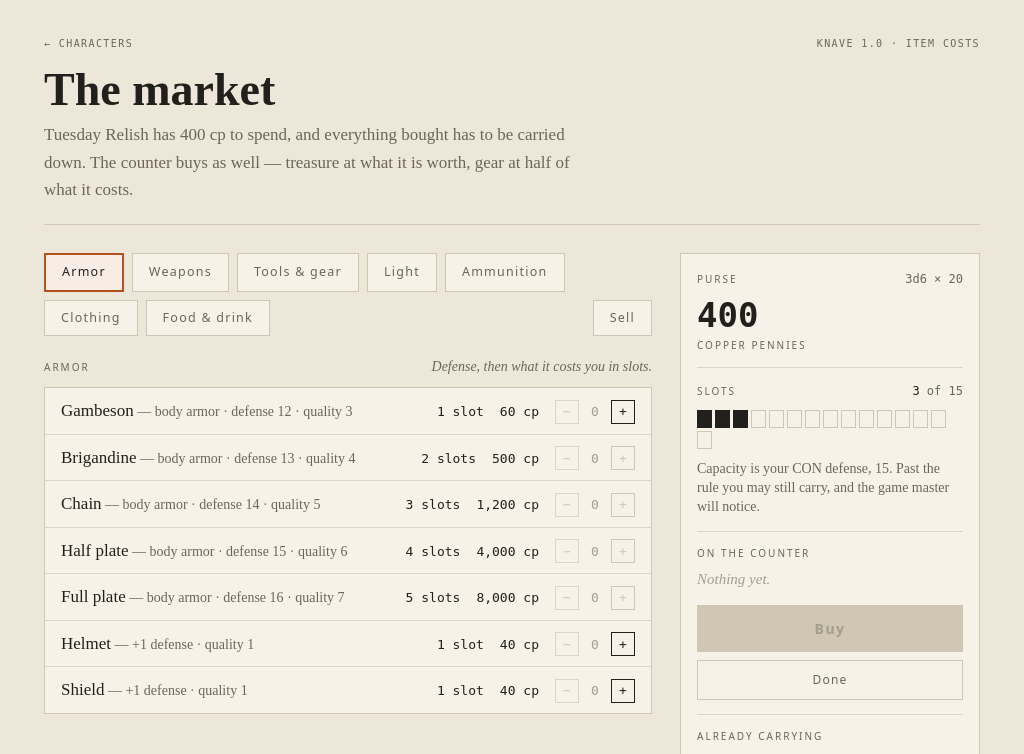
Test case: the shop › gives it back when it comes off the counter
The width and height of the screenshot is (1024, 754).
Click the button "+" in the row of "60 cp": [623, 412] box left=611, top=400, right=635, bottom=424
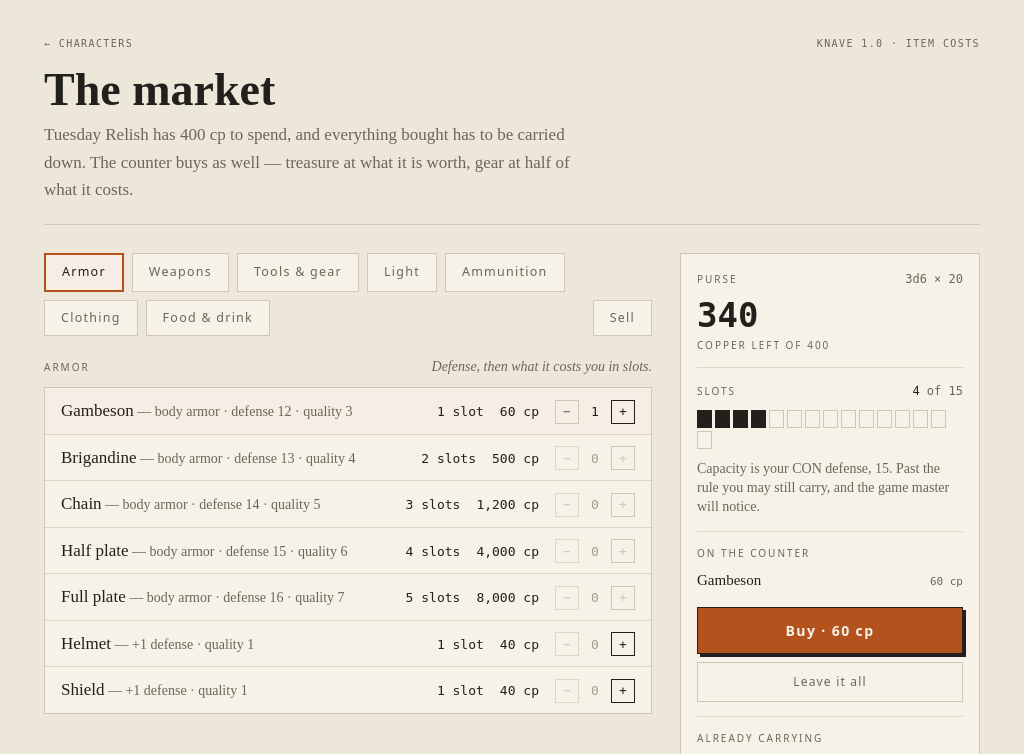
Click the button "−" in the row of "body armor · defense 12 · quality 3": [567, 412] box left=555, top=400, right=579, bottom=424
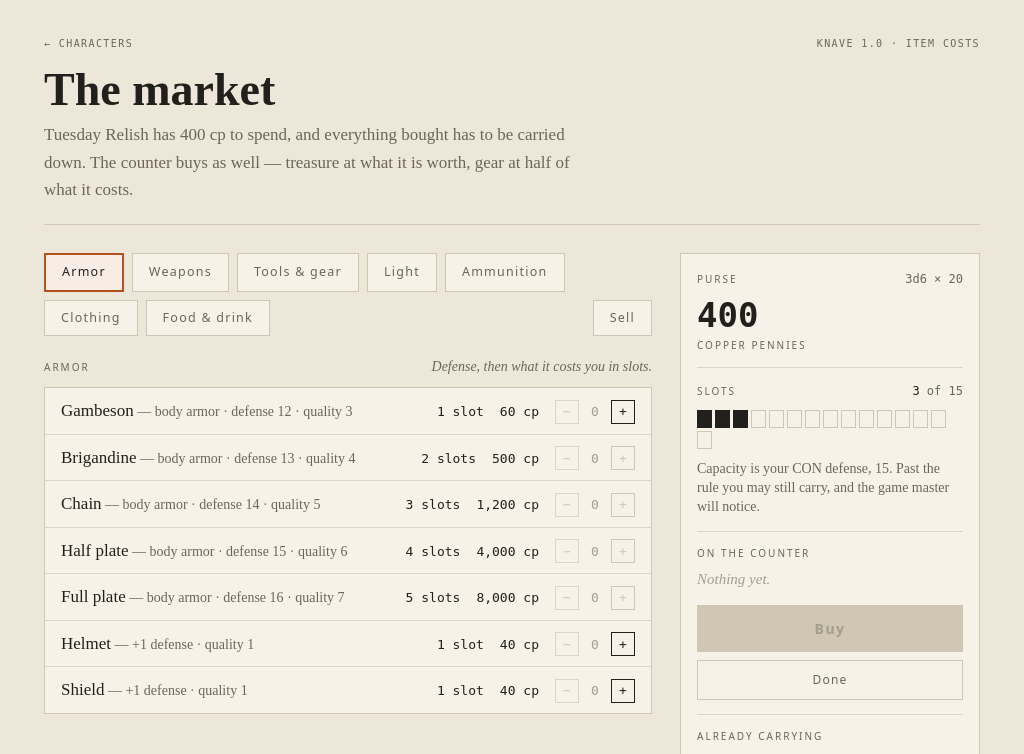
Result: the text "Nothing yet." is shown at left=697, top=571, right=770, bottom=587
Result: the button "Buy" is disabled at left=697, top=605, right=963, bottom=652
